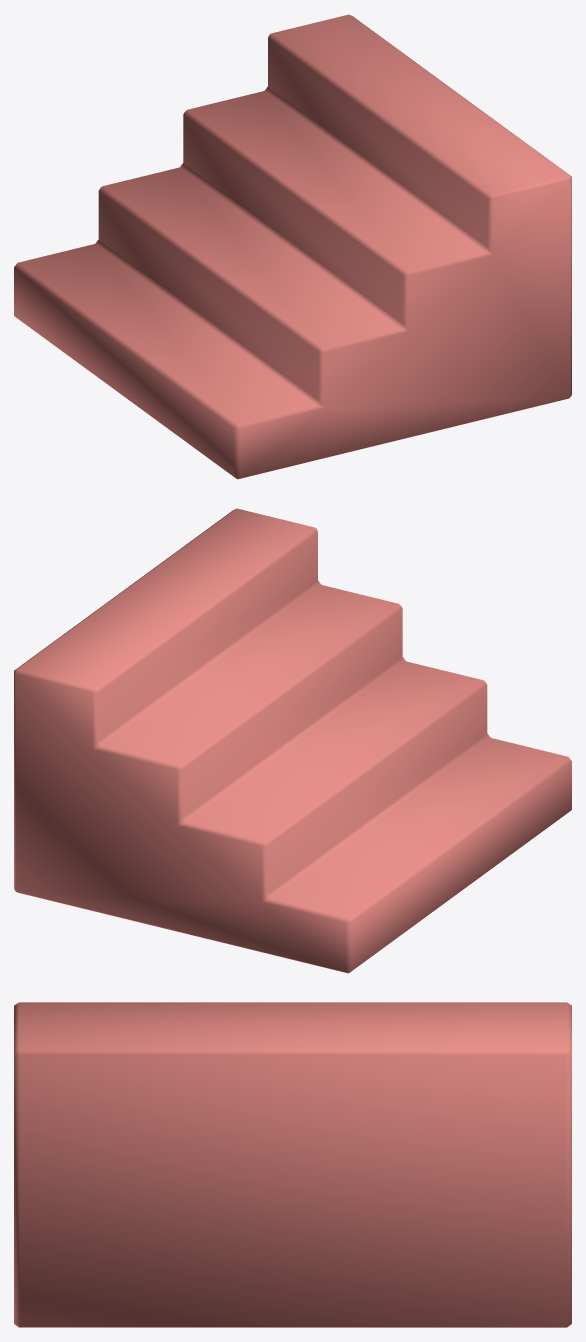
The model's file is m_fesYagura-stairs.fbx.
3 renders of one model, top to bottom at view 1: azimuth 30°, elevation 25°; view 2: azimuth 150°, elevation 25°; view 3: azimuth 270°, elevation 25°, orthographic. The views are drawn at different scales.
Visible parts, largest first — view 1: mesh_fesYagura-stairs; view 2: mesh_fesYagura-stairs; view 3: mesh_fesYagura-stairs.
Part boxes in pixels (left/top/right/bottom): mesh_fesYagura-stairs: left=14, top=14, right=571, bottom=479; mesh_fesYagura-stairs: left=14, top=508, right=571, bottom=973; mesh_fesYagura-stairs: left=14, top=1002, right=571, bottom=1327.
Bounding box in the file's own units: 1.42 × 0.8939 × 1.62.
